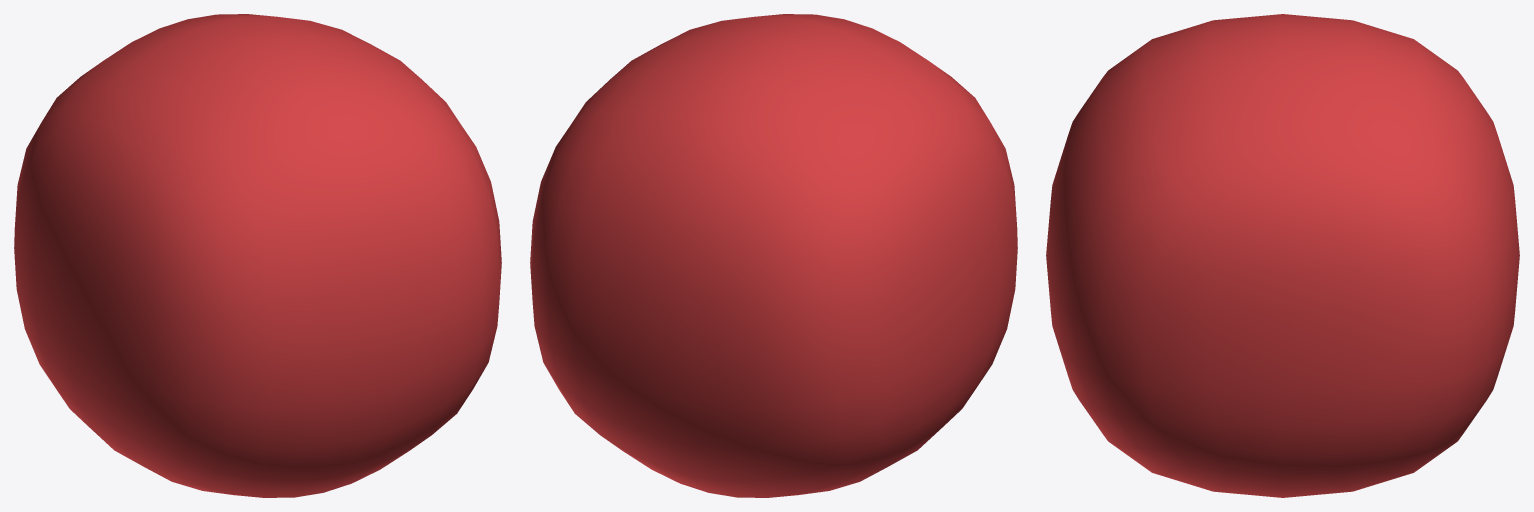
File: pathway_capsule_mesh.fbx
3 renders of one model, left to right at view 1: azimuth 30°, elevation 25°; view 2: azimuth 150°, elevation 25°; view 3: azimuth 270°, elevation 25°, orthographic.
Visible parts, largest first — view 1: capsulemesh; view 2: capsulemesh; view 3: capsulemesh.
Boxes of the visible parts, bbox=[...] form: capsulemesh: bbox=[14, 14, 501, 497]; capsulemesh: bbox=[530, 14, 1017, 497]; capsulemesh: bbox=[1046, 14, 1519, 497].
Bounding box in the file's own units: 20853 × 22134 × 21741.
